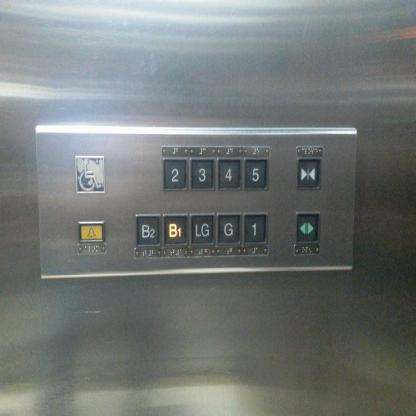1: (241, 212, 268, 245)
2: (162, 156, 189, 192)
3: (188, 156, 215, 191)
4: (214, 156, 242, 192)
5: (241, 157, 269, 191)
B1: (161, 213, 188, 247)
B2: (134, 213, 161, 247)
CH: (74, 154, 105, 194)
G: (214, 211, 242, 247)
LG: (188, 212, 215, 246)
alarm: (76, 220, 106, 242)
close: (296, 157, 320, 190)
open: (294, 211, 319, 244)
